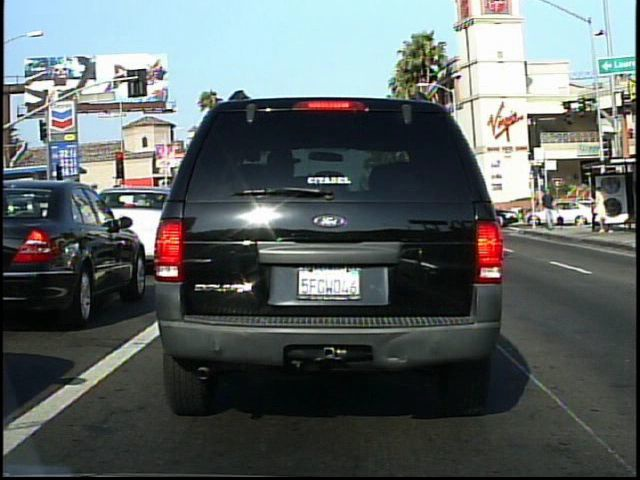person: (590, 182, 611, 235), (538, 184, 559, 234)
